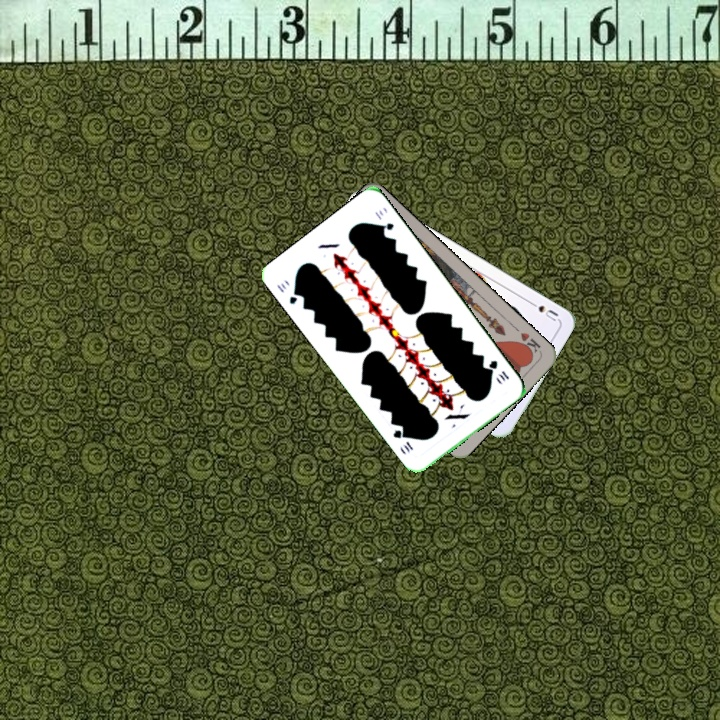G10: (272, 279, 303, 307), (484, 356, 512, 385)
HK: (514, 328, 544, 358)
SU: (524, 297, 561, 324)
